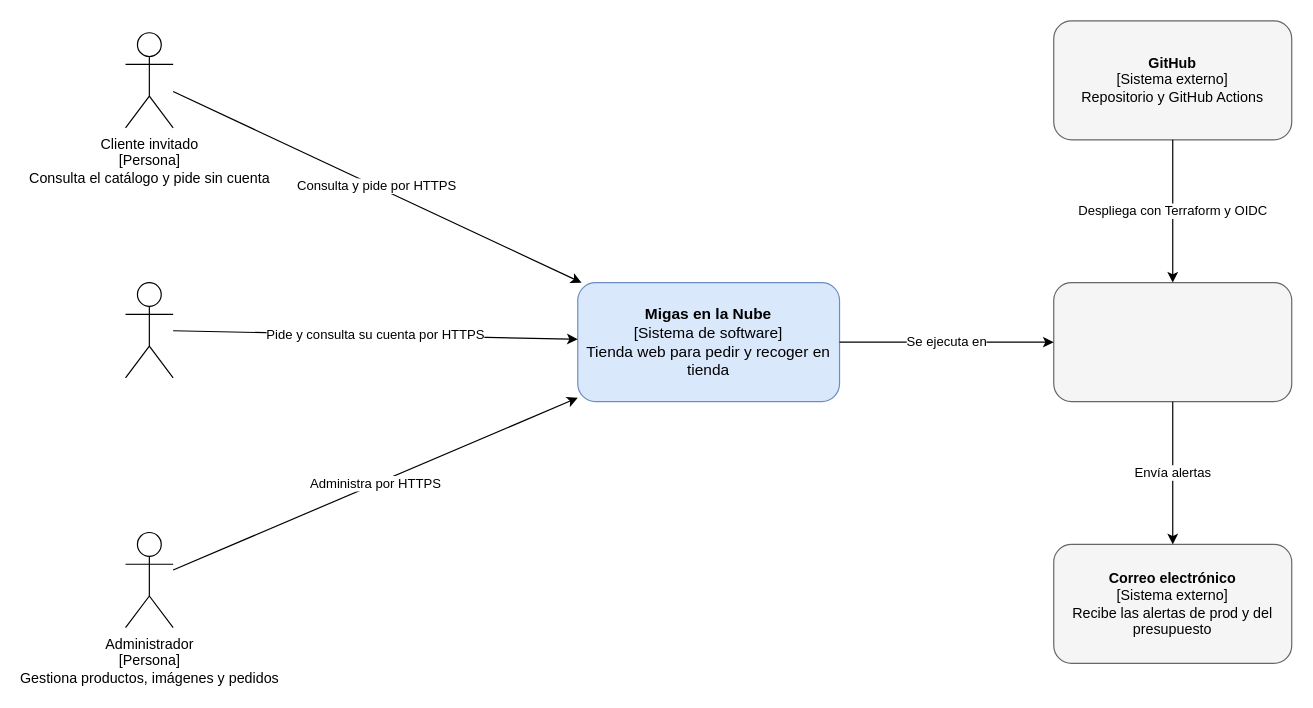
This 1313x708 diagram has some shape labels left out. Here are the shapes that lost their labels. From the top down, the centre of each, then its label:
the point at 148,329: Cliente registrado [Persona] Pide, ve su historial y sus favoritos
the point at 1172,341: Microsoft Azure [Sistema externo] Plataforma que aloja el sistema
